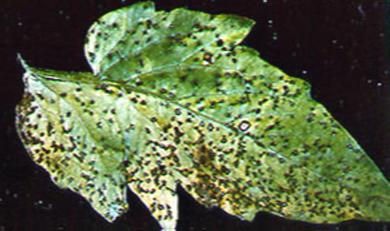Tomato Septoria leaf spot: (4, 6, 387, 230)
